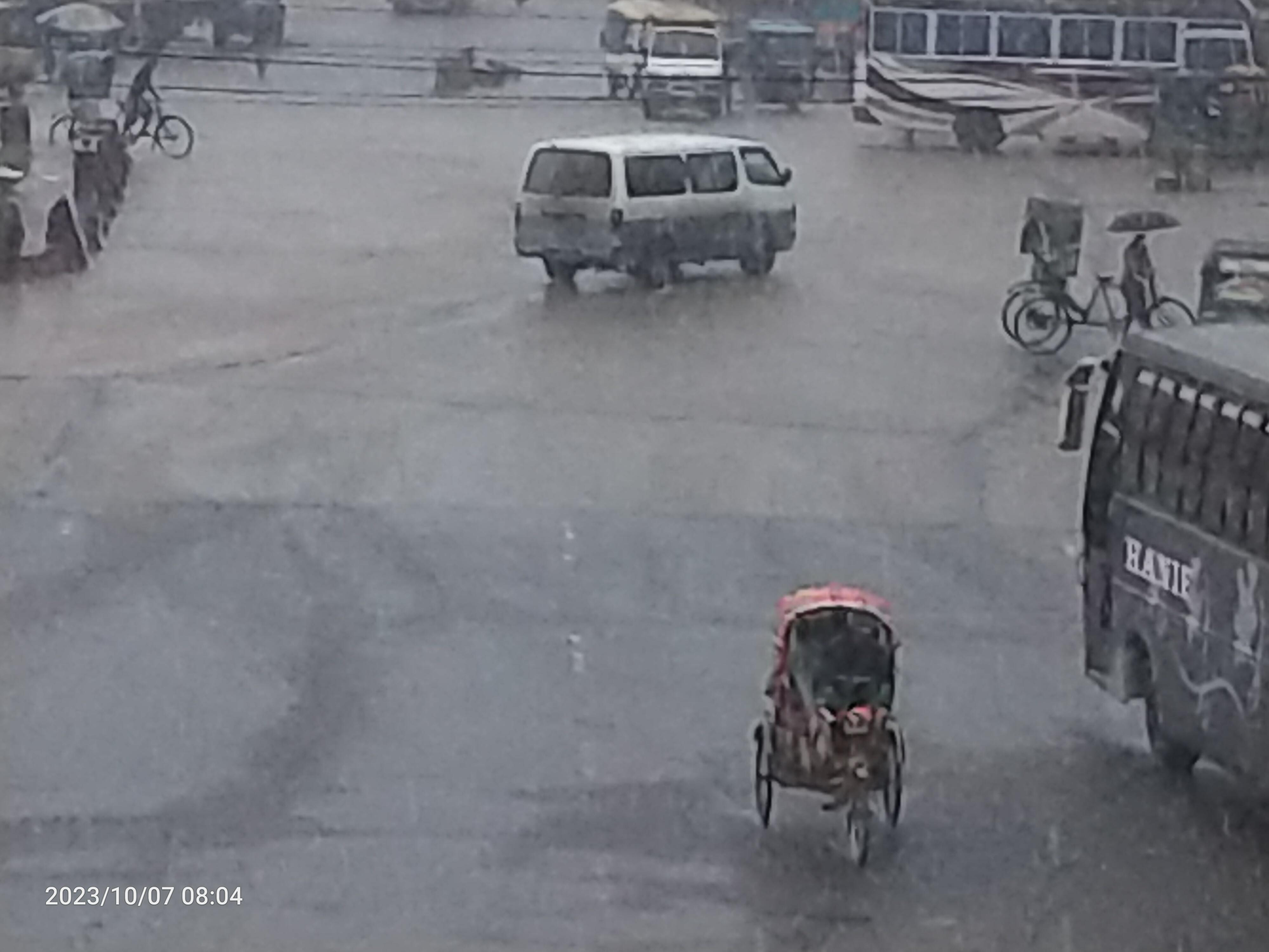Bus: (1038, 313, 1269, 810), (845, 0, 1267, 172)
Car: (716, 565, 988, 899), (467, 109, 810, 293), (982, 174, 1228, 376), (16, 42, 218, 166), (606, 15, 757, 128)
